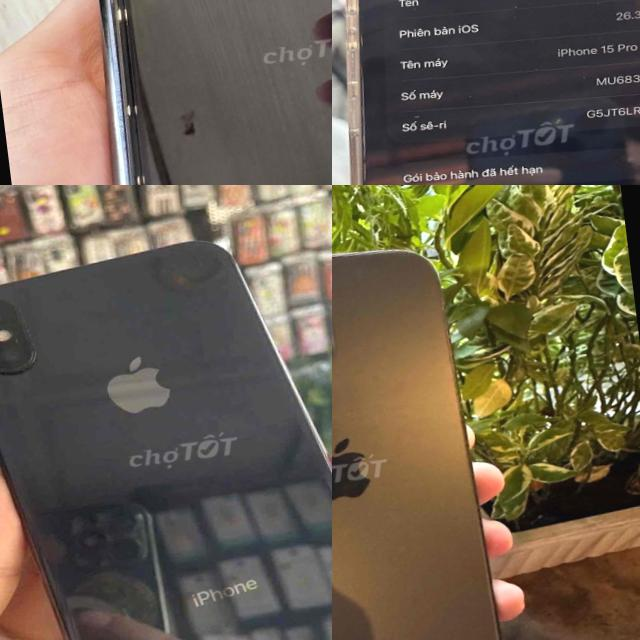scratch: (42, 0, 332, 185), (5, 302, 45, 352)
